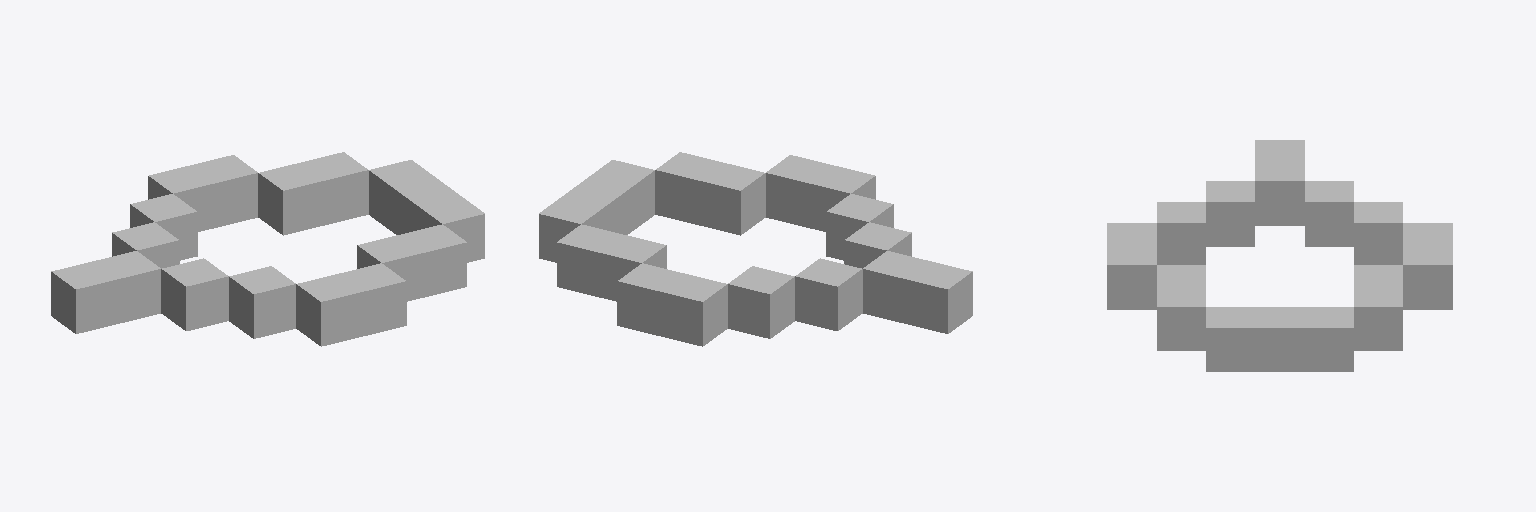
Rendered from nyaklánc.obj.
3 renders of one model, left to right at view 1: azimuth 30°, elevation 25°; view 2: azimuth 150°, elevation 25°; view 3: azimuth 270°, elevation 25°, orthographic.
Bounding box in the file's own units: 9 × 1 × 7.